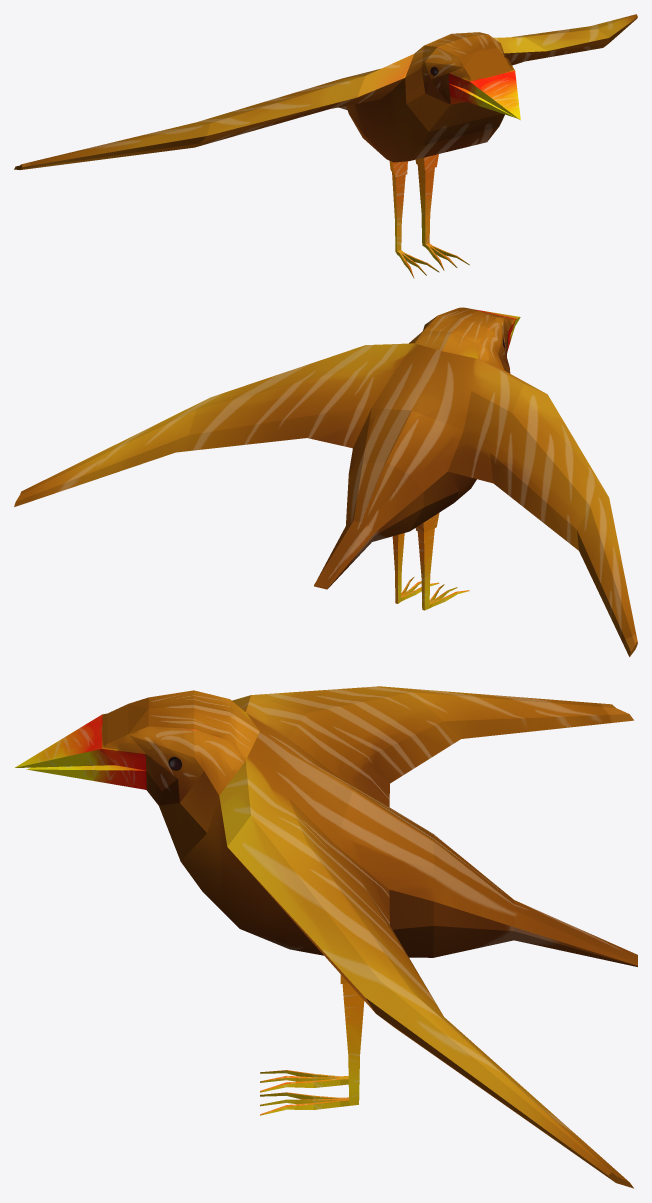
File: BirdofPrey_1.obj
3 views of the same model, one above another, from view 1: azimuth 30°, elevation 25°; view 2: azimuth 150°, elevation 25°; view 3: azimuth 270°, elevation 25° (orthographic). The views are drawn at different scales.
Visible parts, largest first — view 1: BirdofPrey_1; view 2: BirdofPrey_1; view 3: BirdofPrey_1.
Boxes of the visible parts, x1,y1,x2,y2 form: BirdofPrey_1: (14, 14, 637, 278); BirdofPrey_1: (14, 307, 637, 656); BirdofPrey_1: (15, 686, 637, 1188).
Bounding box in the file's own units: 183 × 71.07 × 103.
